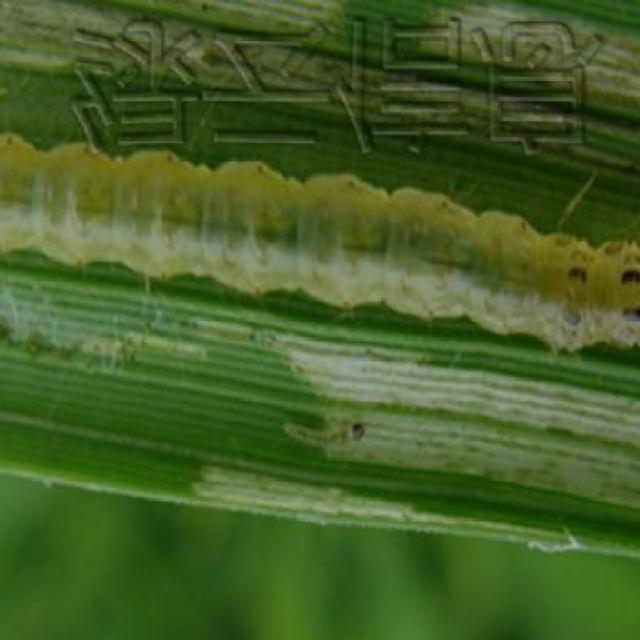leaf-folder: (1, 92, 640, 359), (278, 393, 368, 461)
